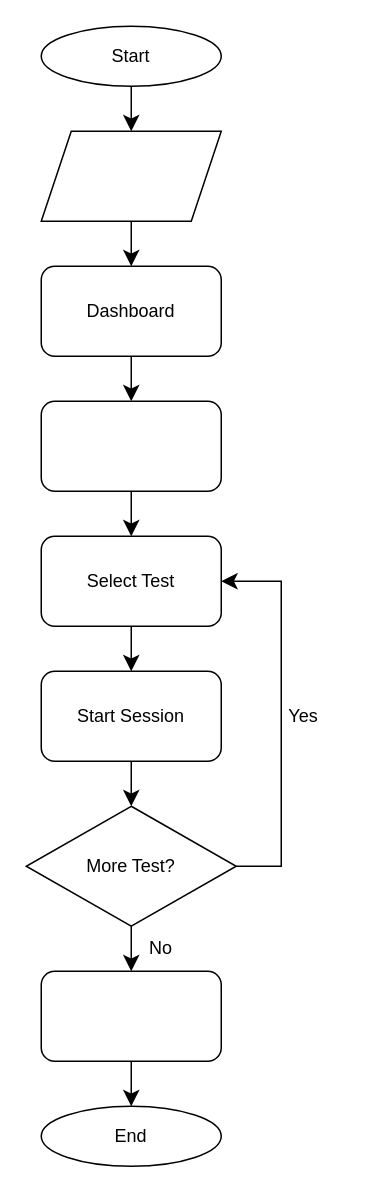
This 375x1193 diagram has some shape labels left out. The shapes that lost their labels are listed below. From the top down, each one's centre as x and y in pixels, then its label:
At [130,175]: "Researcher Login".
At [130,445]: "Create / Select Participant".
At [130,1015]: "Generate Report".
